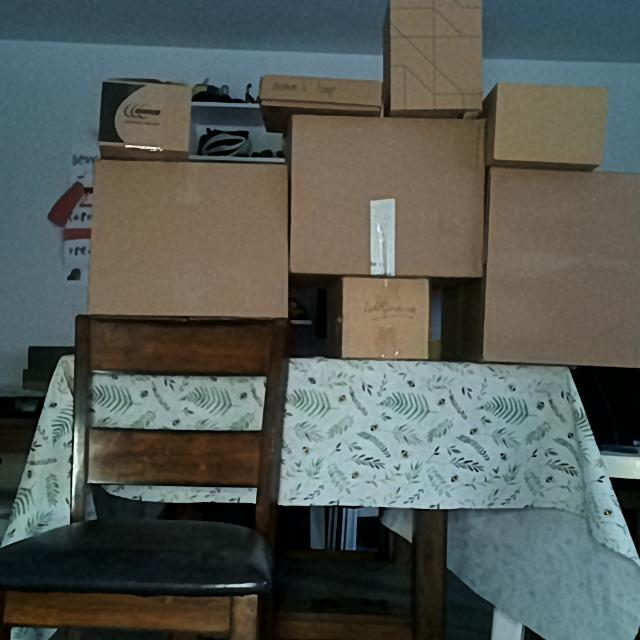box: (292, 114, 485, 275), (488, 165, 640, 361), (90, 164, 287, 314), (391, 0, 484, 110), (494, 84, 606, 161), (343, 274, 429, 359), (103, 80, 189, 150), (261, 76, 384, 108)
